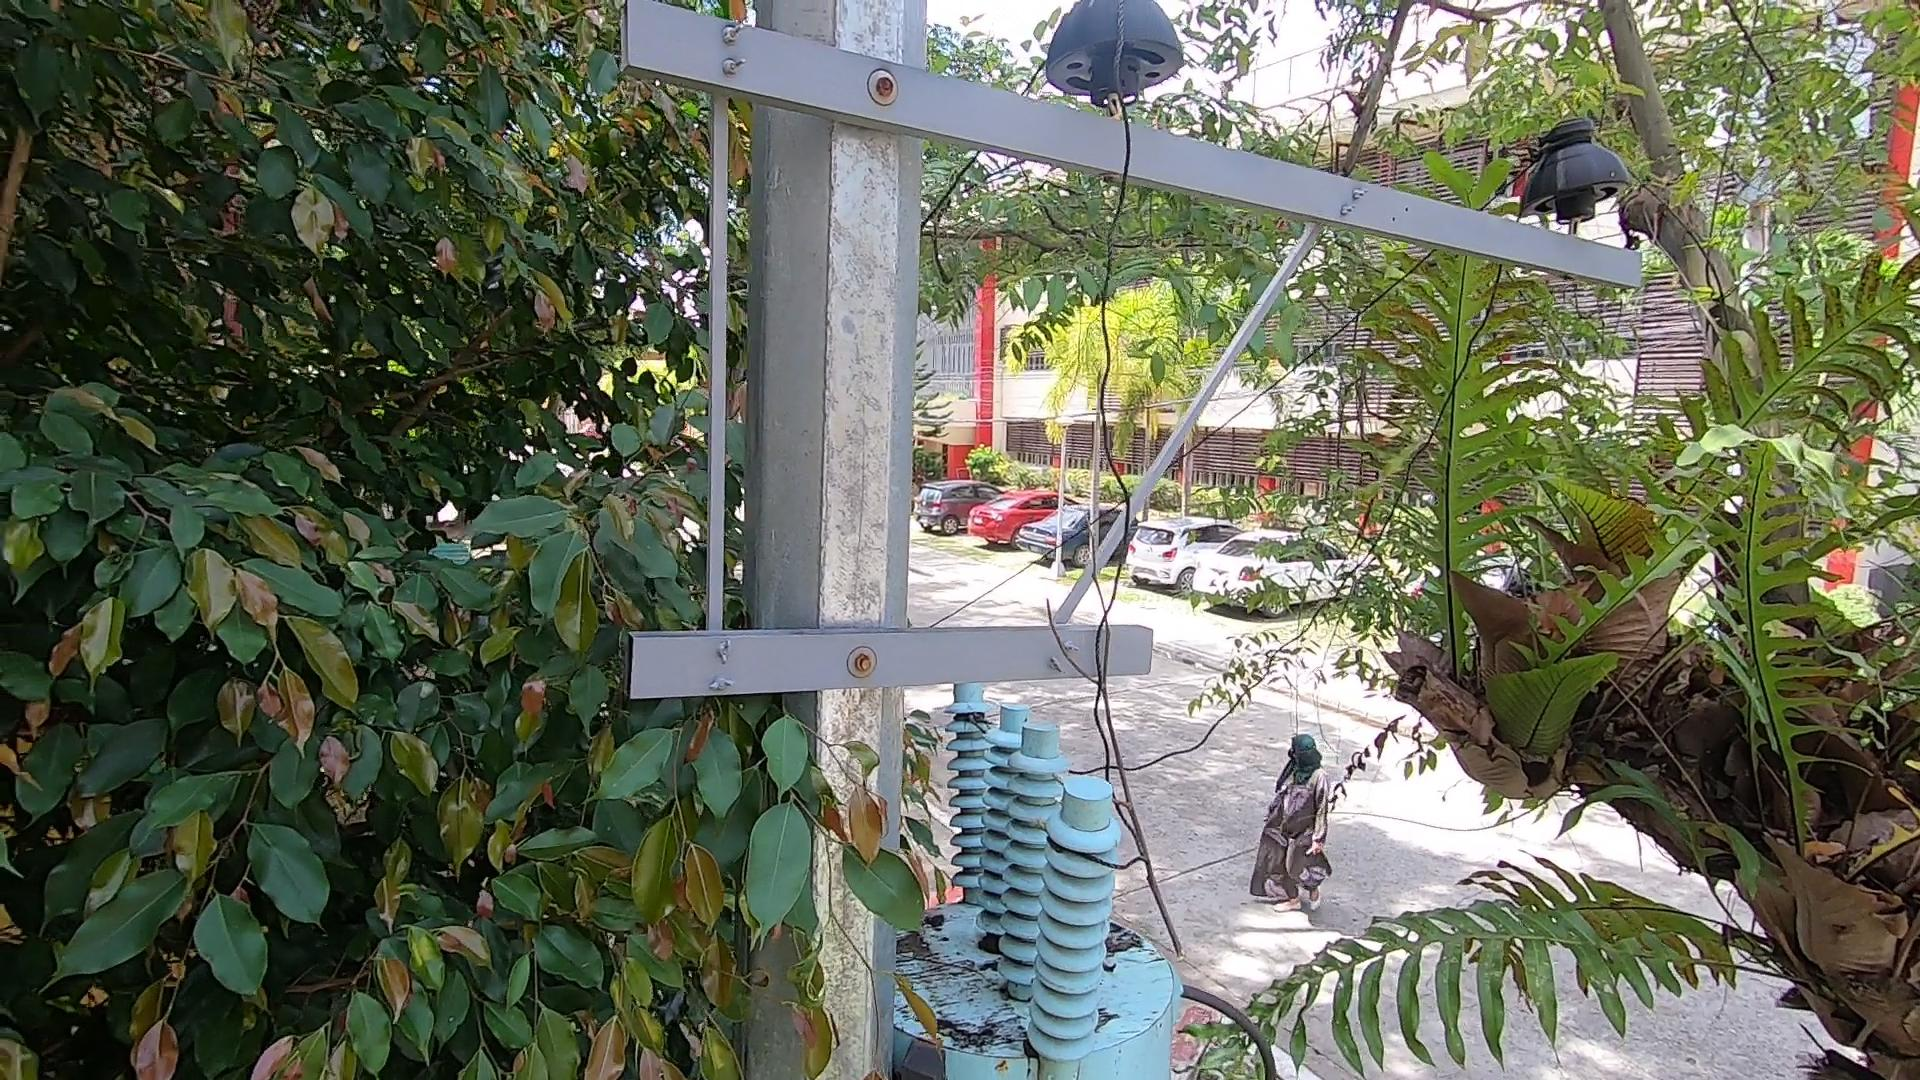tree branch: (1029, 484, 1218, 971)
